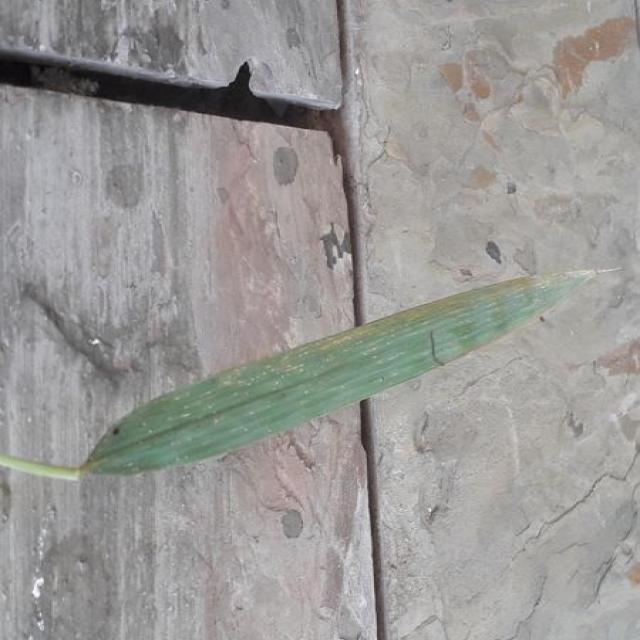Bamboo: (3, 270, 595, 477)
defectedBamboo: (237, 276, 542, 398)
